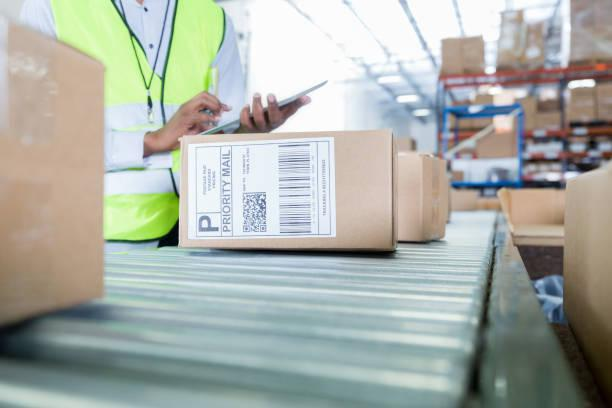Finder pattern: (242, 224, 251, 232), (259, 224, 267, 233)
